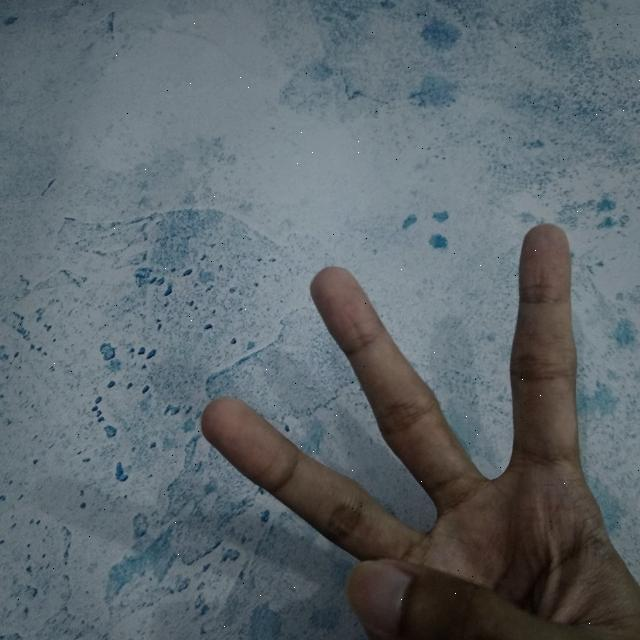W: (192, 212, 640, 640)
